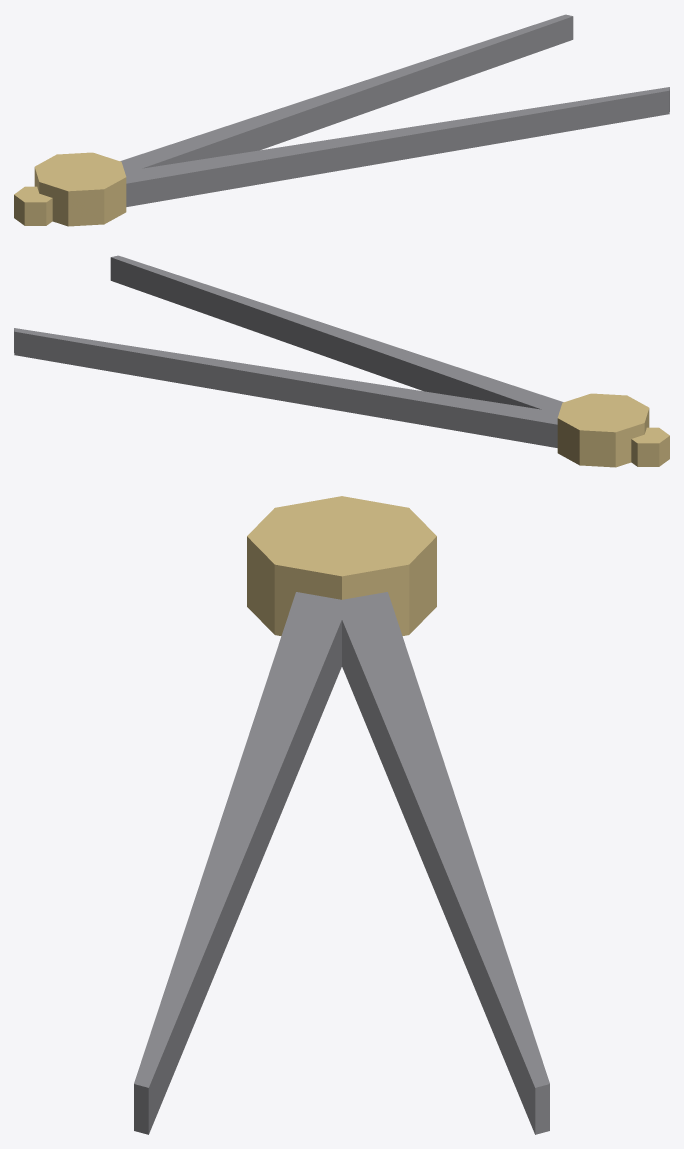
Rendered from prop-compass-divider-mm1.fbx.
3 renders of one model, top to bottom at view 1: azimuth 30°, elevation 25°; view 2: azimuth 150°, elevation 25°; view 3: azimuth 270°, elevation 25°, orthographic. The views are drawn at different scales.
Parts seen in each view (by area): view 1: prop-compass-divider-mm1; view 2: prop-compass-divider-mm1; view 3: prop-compass-divider-mm1.
Boxes of the visible parts, x1,y1,x2,y2 form: prop-compass-divider-mm1: [14, 14, 669, 226]; prop-compass-divider-mm1: [14, 255, 669, 467]; prop-compass-divider-mm1: [134, 496, 549, 1134].
Bounding box in the file's own units: 16.1 × 0.9 × 4.82.
